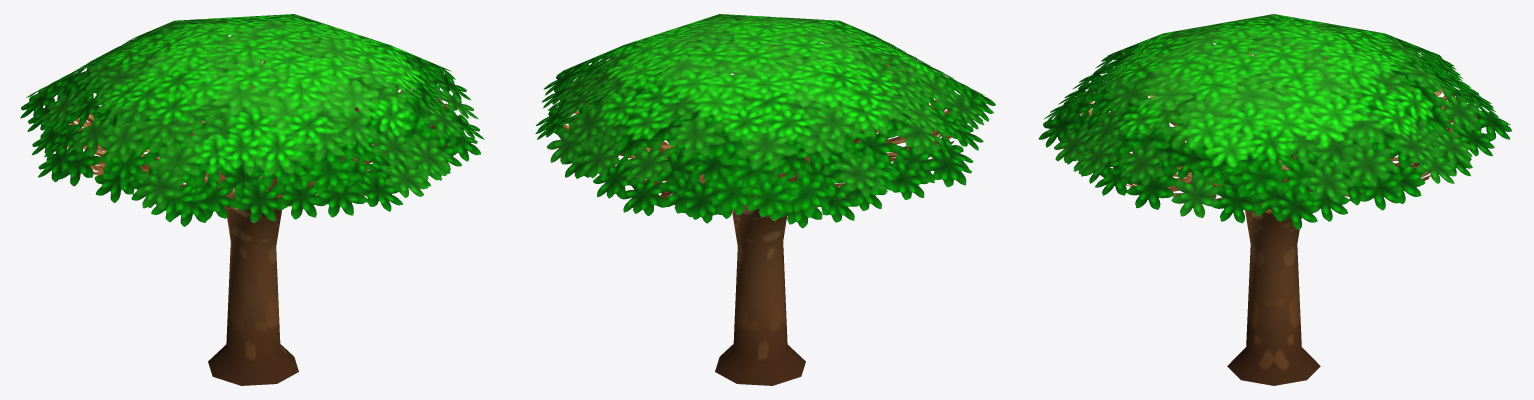
Rendered from Tree_02d.FBX.
The picture shows the model from 3 angles, left to right: view 1: azimuth 30°, elevation 25°; view 2: azimuth 150°, elevation 25°; view 3: azimuth 270°, elevation 25°; orthographic projection.
Visible parts, largest first — view 1: Tree_02d; view 2: Tree_02d; view 3: Tree_02d.
Boxes of the visible parts, x1,y1,x2,y2 form: Tree_02d: (20, 14, 484, 385); Tree_02d: (535, 14, 995, 385); Tree_02d: (1038, 14, 1511, 385).
Bounding box in the file's own units: 71.83 × 50.34 × 71.83.
